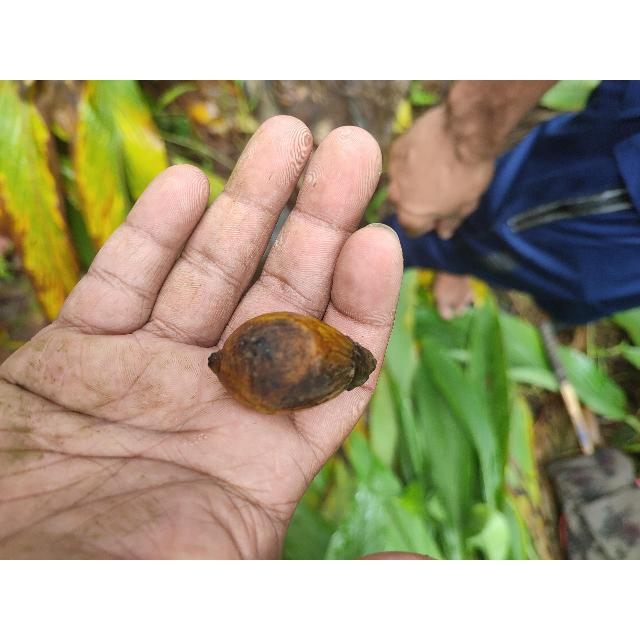damaged: (208, 312, 376, 414)
